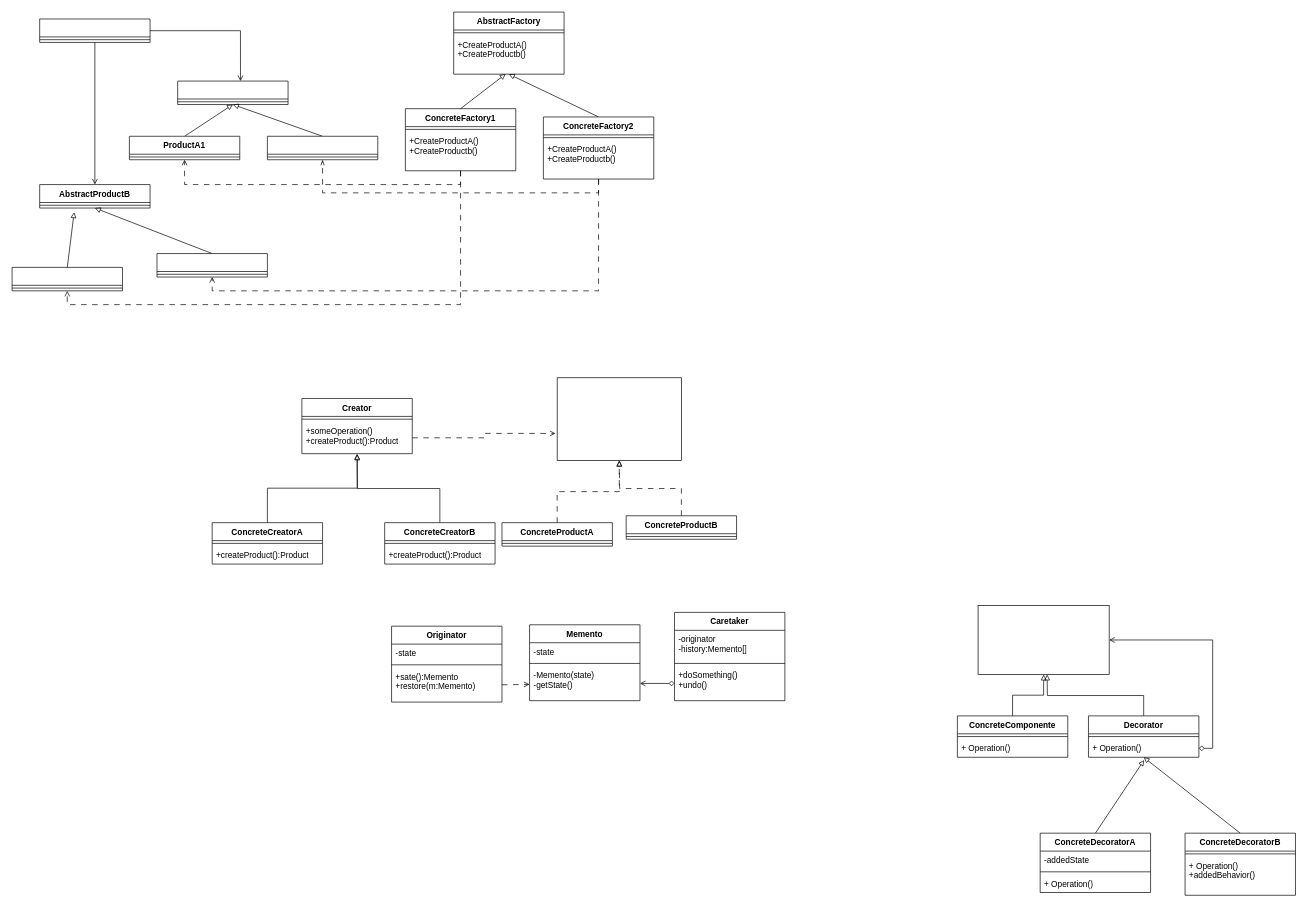
Image size: 1308x909. Some labels were removed from this diagram. The shapes that lost their labels are listed below. From the top down, each one's centre as x and y in pixels, then its label:
At (x=94, y=30): "Client".
At (x=232, y=92): "AbstractProductA".
At (x=322, y=148): "ProductA2".
At (x=66, y=279): "ProductB1".
At (x=211, y=265): "ProductB2".
At (x=618, y=419): "<<Interface>> Product + doStuff()".
At (x=1043, y=639): "<<Interface>> Component + Operation()".
